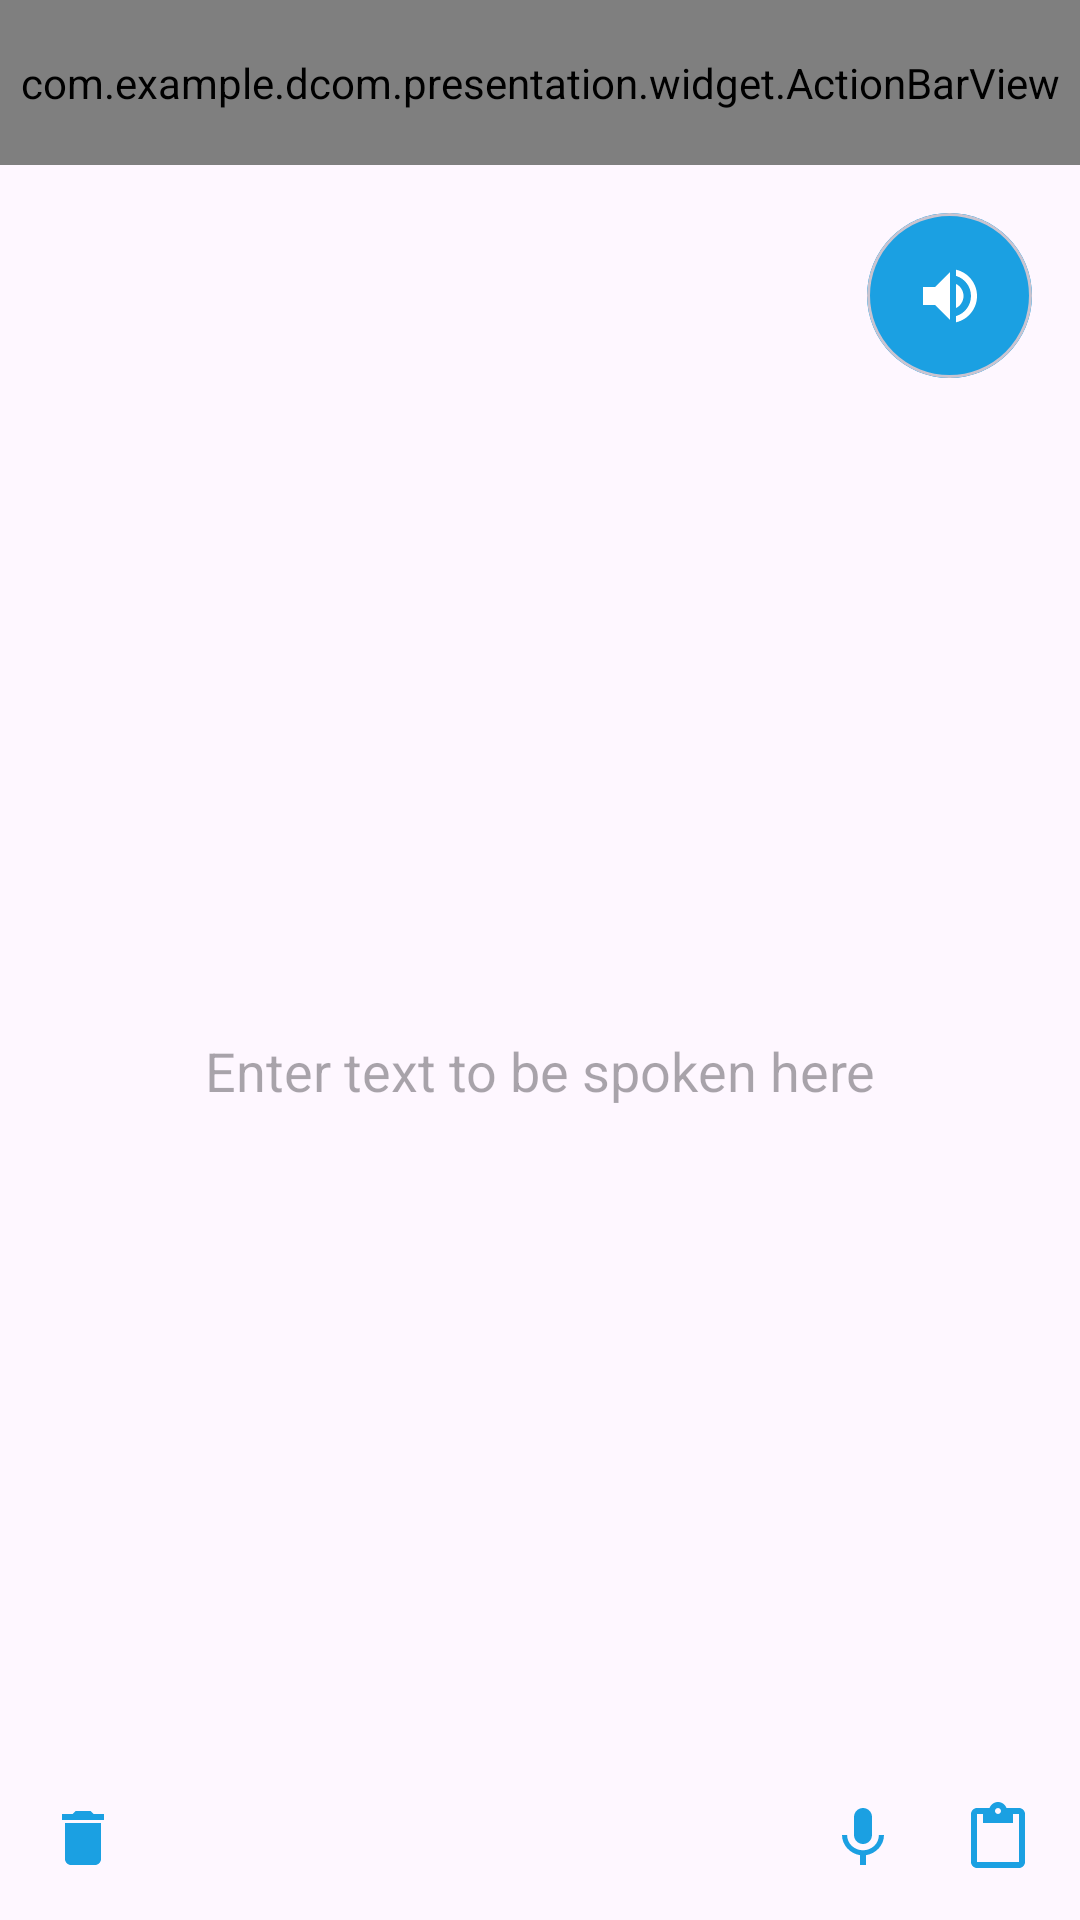

Named icons in this screenshot (1080×1920) and their centers, [x,y]:
content paste: [998,1835]
delete: [83,1838]
mic: [863,1836]
volume up: [949,295]
